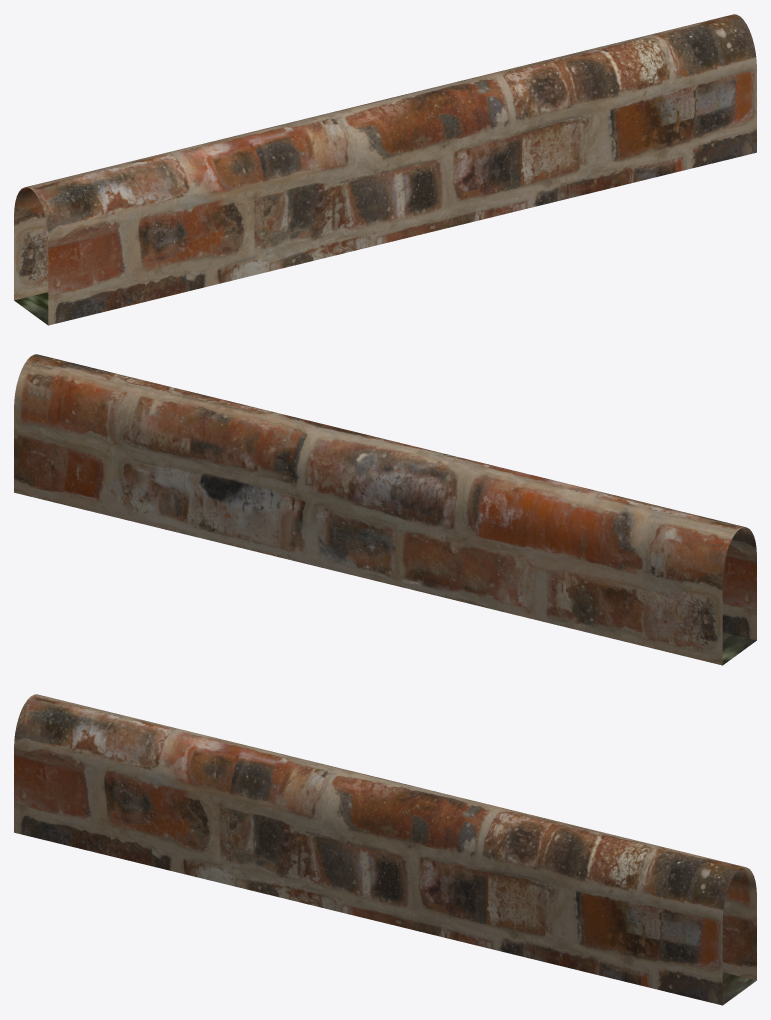
Rendered from tunnel 12m sideways.fbx.
3 views of the same model, one above another, from view 1: azimuth 30°, elevation 25°; view 2: azimuth 150°, elevation 25°; view 3: azimuth 330°, elevation 25° (orthographic).
Visible parts, largest first — view 1: tunnel 12m sideways, tunnel floor 12m sideways; view 2: tunnel 12m sideways, tunnel floor 12m sideways; view 3: tunnel 12m sideways, tunnel floor 12m sideways.
Boxes of the visible parts, left/top/right/bottom form: tunnel 12m sideways: left=14, top=14, right=756, bottom=325; tunnel floor 12m sideways: left=14, top=292, right=48, bottom=325; tunnel 12m sideways: left=14, top=354, right=756, bottom=665; tunnel floor 12m sideways: left=722, top=632, right=756, bottom=665; tunnel 12m sideways: left=14, top=694, right=756, bottom=1005; tunnel floor 12m sideways: left=722, top=972, right=756, bottom=1005.
Bounding box in the file's own units: 1200 × 100 × 200.
